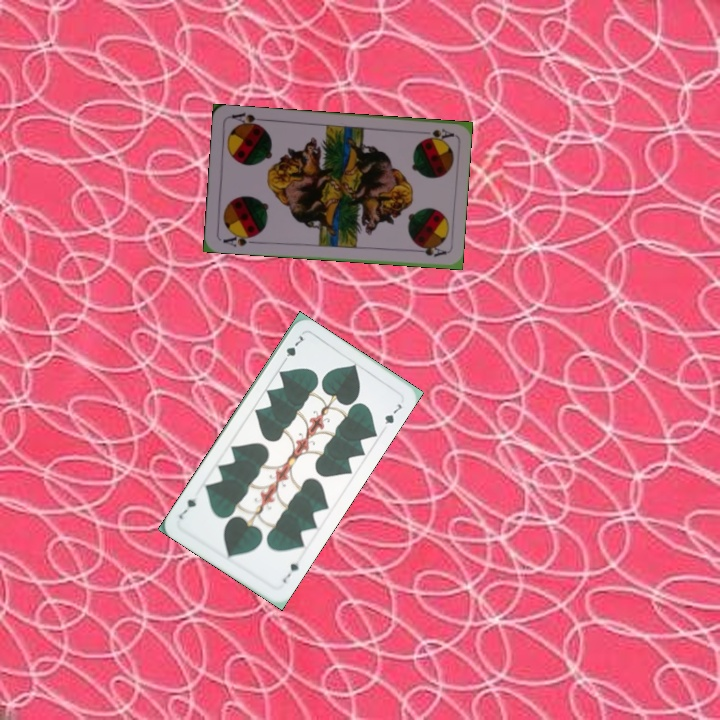G7: (278, 331, 307, 367), (278, 558, 301, 586)
SA: (219, 229, 259, 249), (415, 124, 456, 143)
